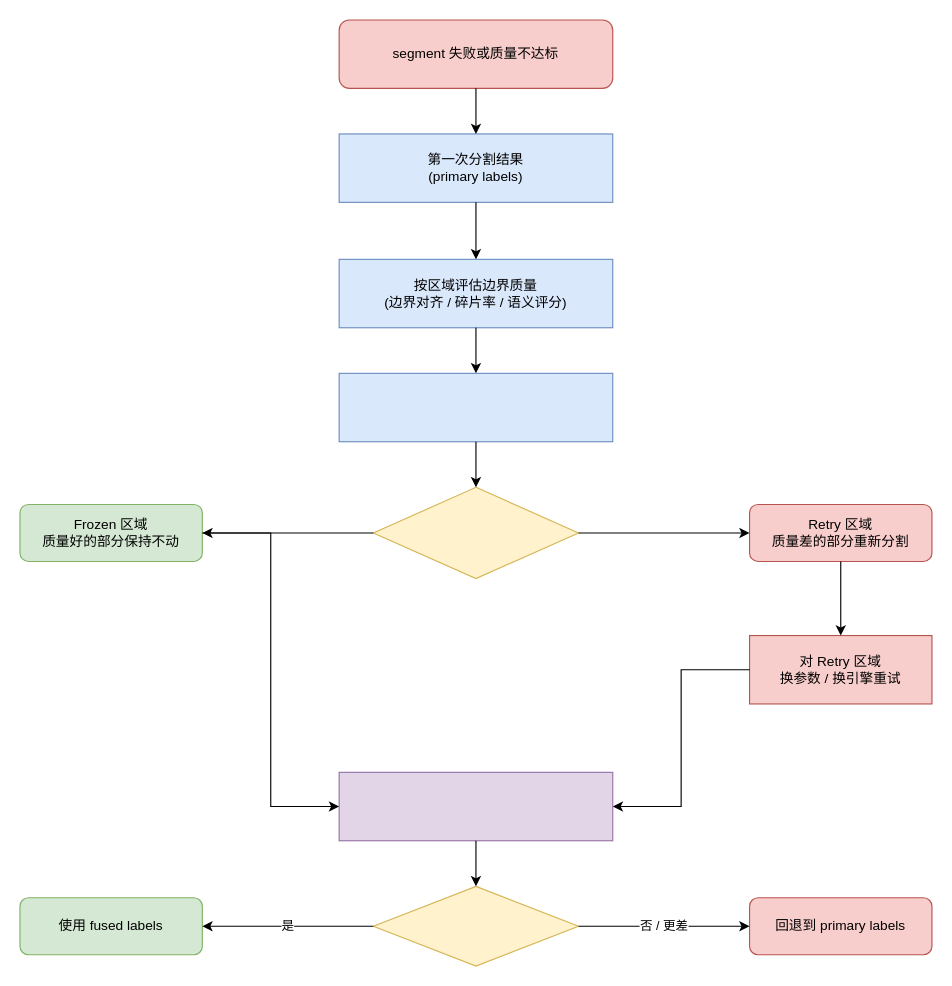
Some shapes in this 952 by 986 pixel diagram are drawn without their labels. Here are the shapes that lost their labels. From the top down, the centre of each, then its label:
(475,407): 给每个区域打分排序
(475,532): 划分区域
(475,806): 融合 Frozen + Retry 生成 fused labels
(475,925): 整体质量是否提升?
